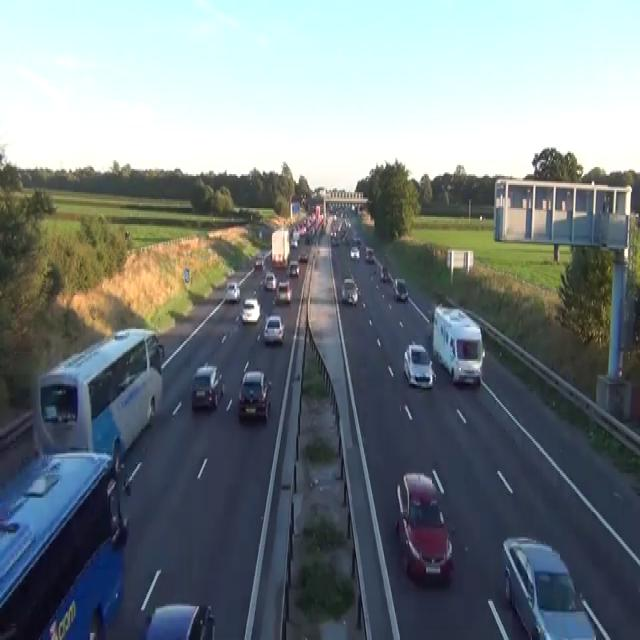Car: (280, 484, 367, 638), (501, 535, 597, 638), (37, 534, 125, 638), (395, 471, 453, 583), (143, 603, 215, 638), (237, 370, 272, 420), (190, 363, 224, 409), (403, 342, 436, 389), (263, 315, 284, 343), (240, 297, 260, 323), (341, 277, 358, 306), (273, 279, 291, 304), (392, 278, 408, 300), (225, 281, 240, 302), (264, 270, 276, 290), (287, 260, 299, 278), (364, 247, 374, 263), (349, 246, 360, 260), (380, 265, 388, 281), (254, 254, 263, 268), (298, 251, 308, 261), (352, 235, 361, 245), (298, 224, 306, 235), (331, 237, 340, 246), (290, 237, 298, 247), (341, 233, 349, 243), (304, 233, 312, 243), (259, 276, 265, 286), (345, 218, 350, 228), (351, 202, 355, 212), (258, 230, 262, 238)
Truck: (0, 443, 128, 638), (31, 325, 164, 473), (432, 302, 484, 386), (271, 228, 290, 266)
